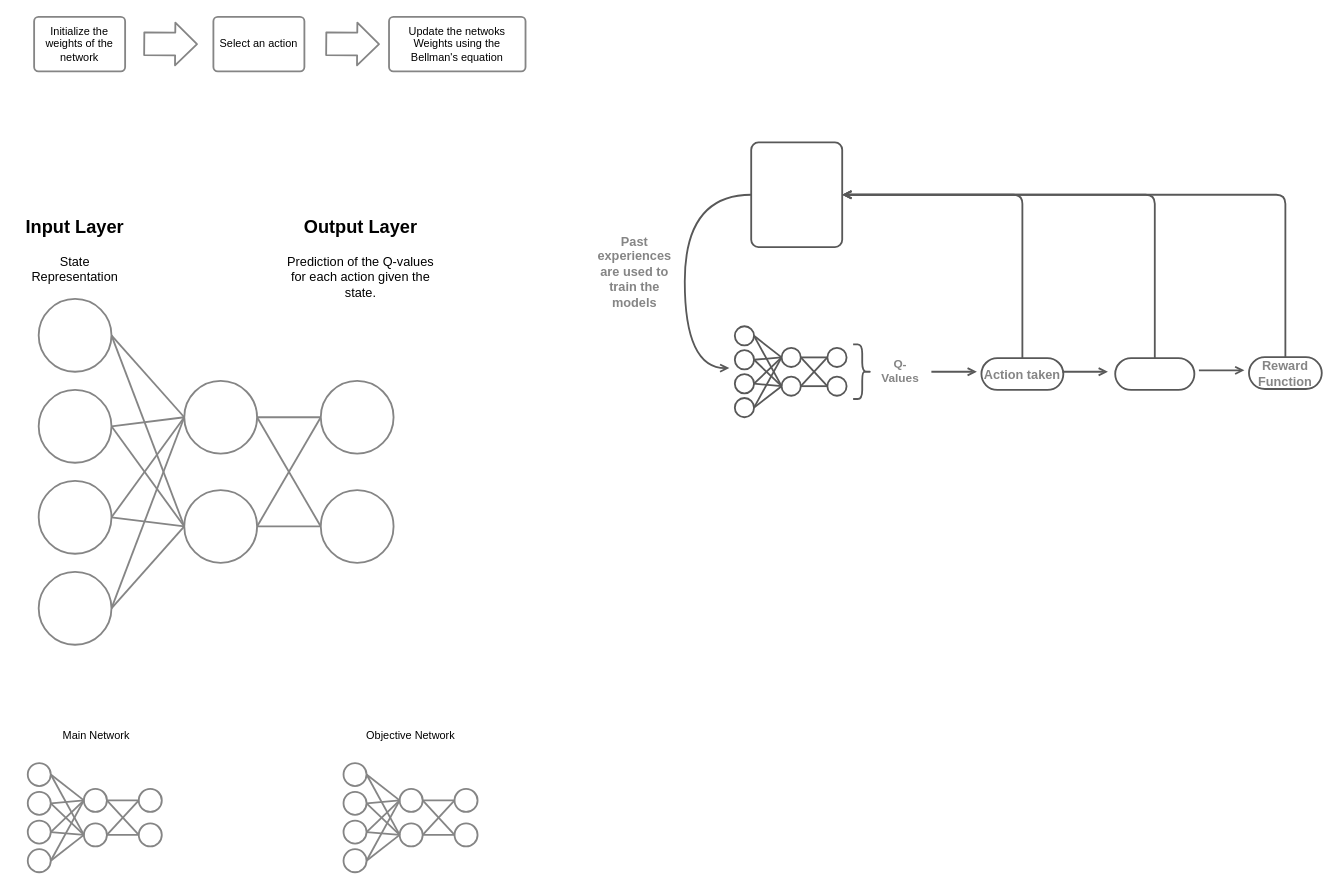
Some shapes in this 1338 by 888 pixel diagram are drawn without their labels. Here are the shapes that lost their labels. From the top down, the centre of each, then its label:
At point (796, 194): "Experiences".
At point (1154, 373): "Resulting State".
